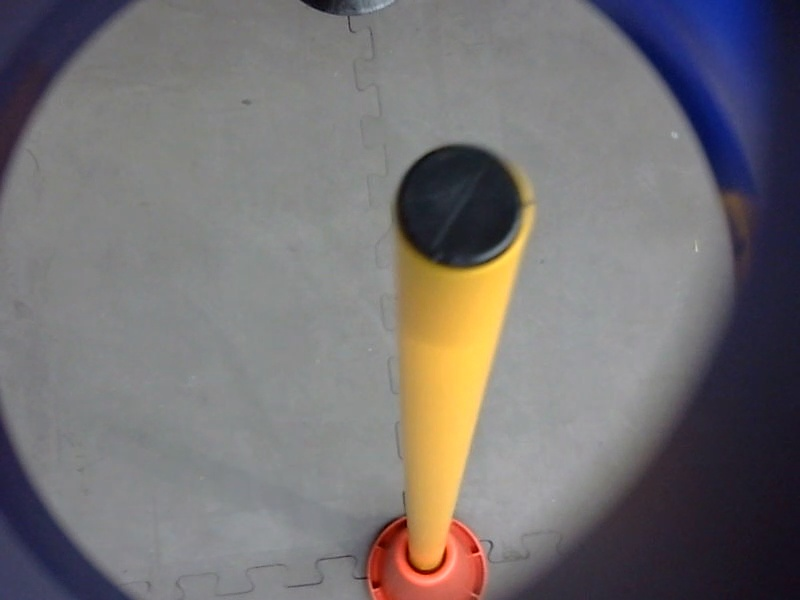tip: (382, 132, 542, 286)
